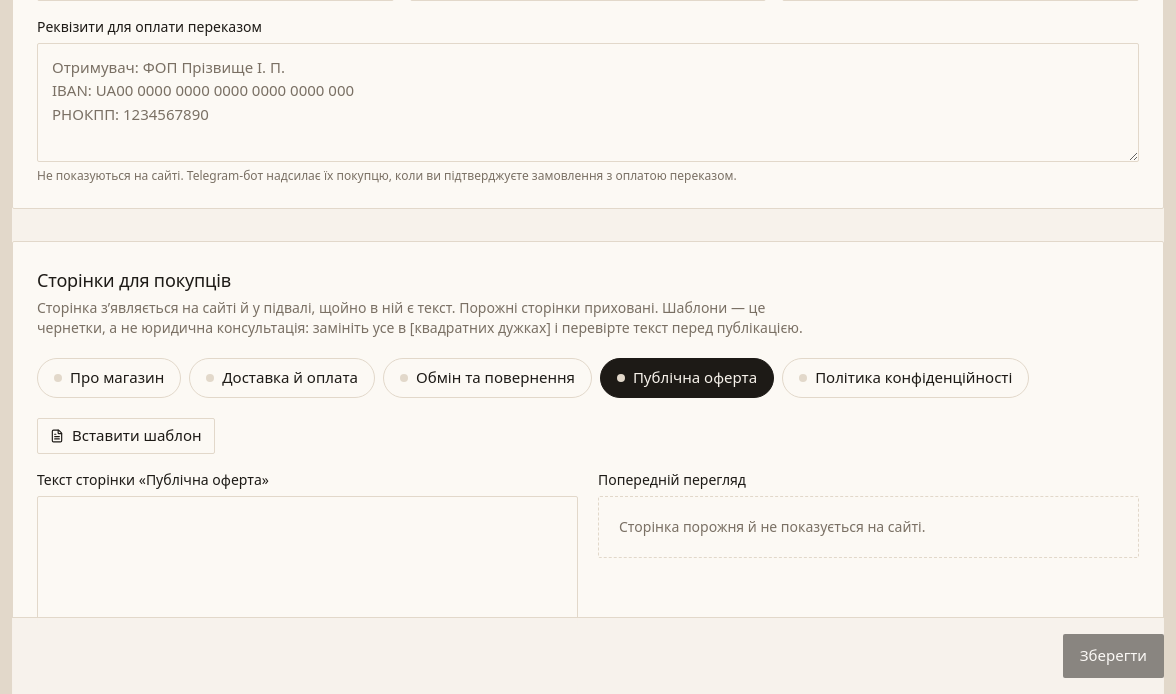
Test: AdminStoreInfoEditor › switches between pages and previews the formatted text
(page scrolled)
Click the button "Обмін та повернення": click(488, 378) [383, 358, 592, 398]
(page scrolled)
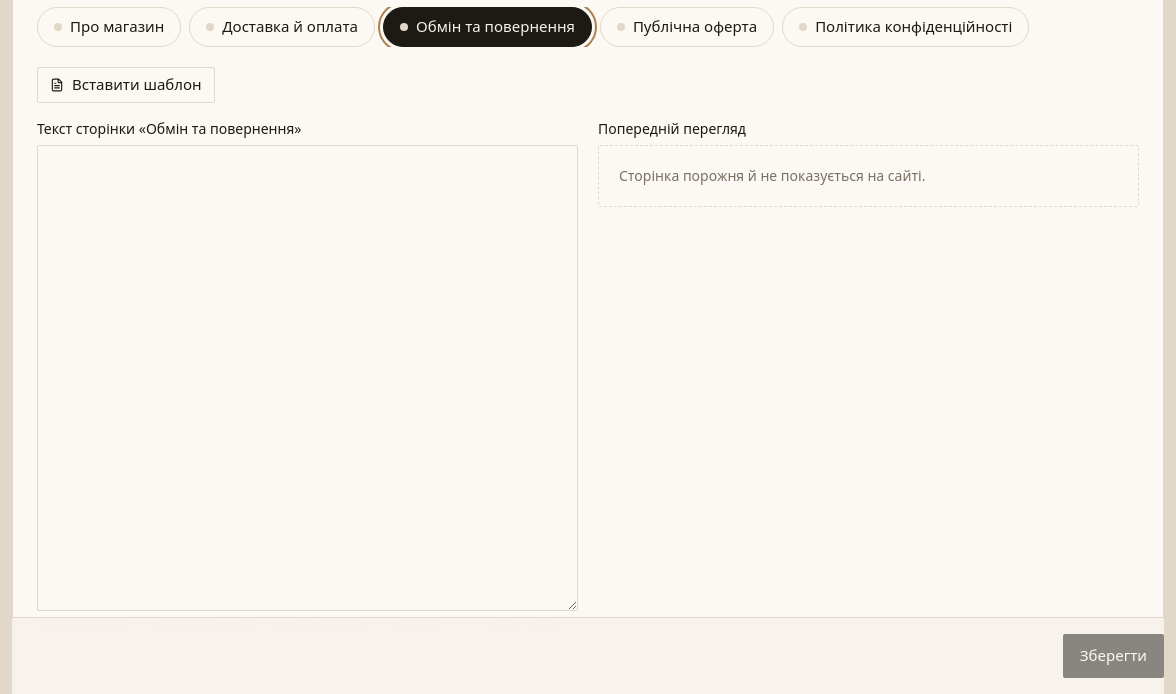
In the text box labelled "Текст сторінки": (308, 378) [37, 145, 578, 611], type "## Умови"
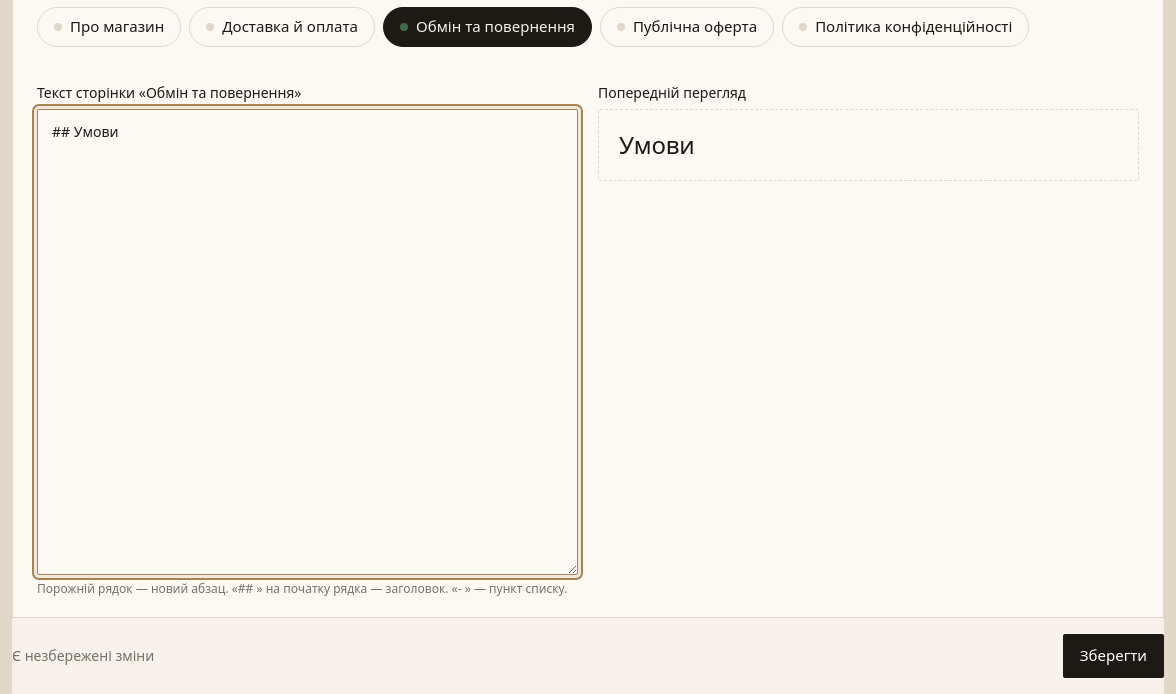
Expected: the heading "Умови" is shown, [619, 128, 694, 161]
